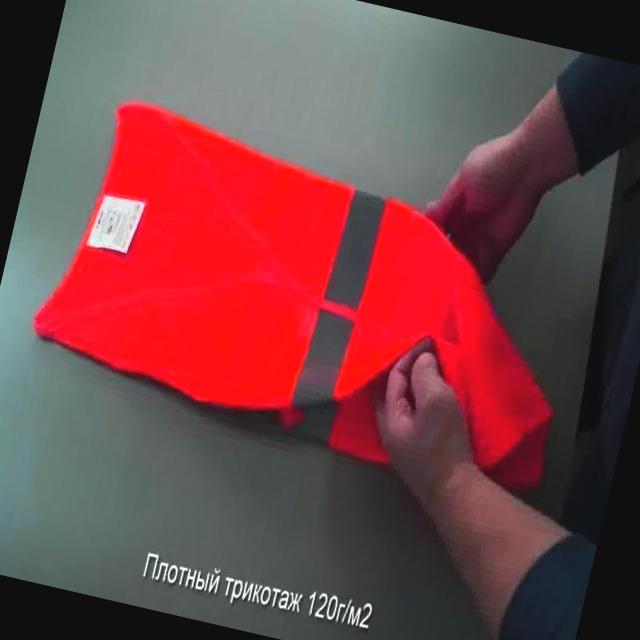vest: (17, 88, 604, 500)
